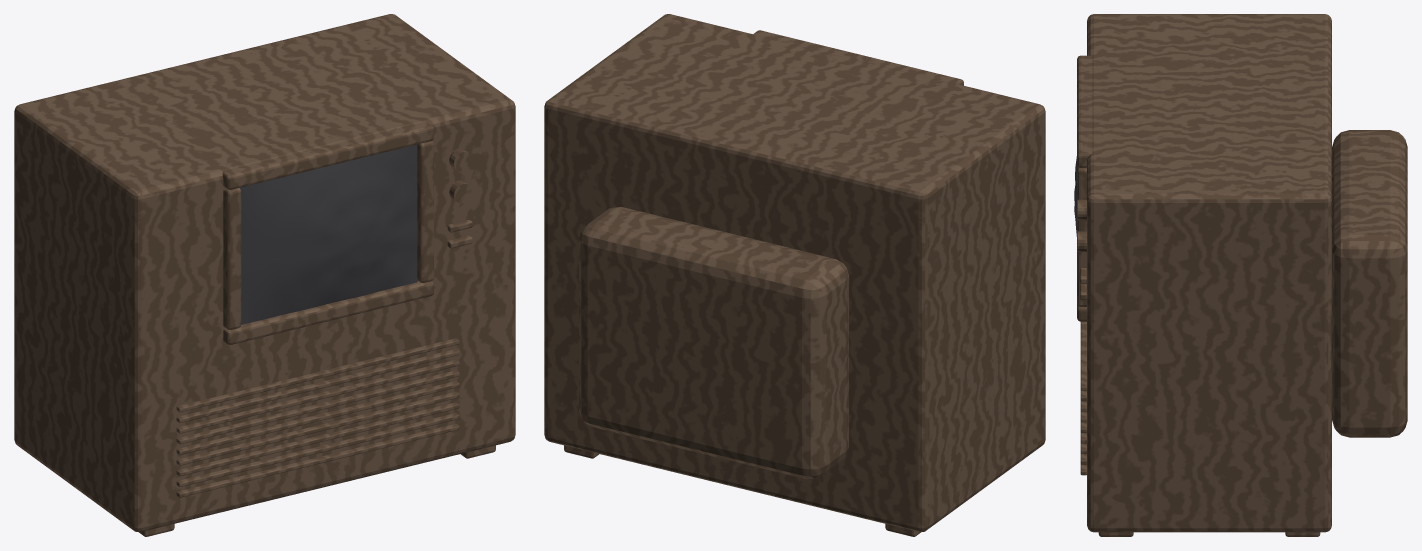
Rendered from PRP_CRTTV_Cracked.fbx.
The picture shows the model from 3 angles, left to right: view 1: azimuth 30°, elevation 25°; view 2: azimuth 150°, elevation 25°; view 3: azimuth 270°, elevation 25°; orthographic projection.
Parts seen in each view (by area): view 1: TV_Shell, TV_Screen; view 2: TV_Shell; view 3: TV_Shell.
Boxes of the visible parts, x1,y1,x2,y2 form: TV_Shell: [14, 14, 515, 536]; TV_Screen: [239, 144, 417, 324]; TV_Shell: [544, 14, 1045, 536]; TV_Shell: [1077, 14, 1407, 536].
Bounding box in the file's own units: 75 × 66 × 57.21.
